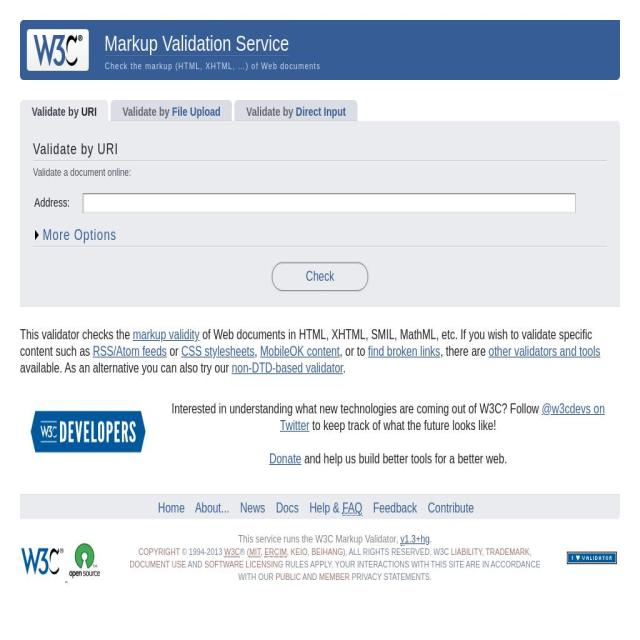button: (104, 32, 290, 56), (272, 262, 368, 292), (239, 99, 358, 121), (115, 99, 233, 121), (20, 32, 104, 56), (24, 99, 109, 121), (35, 226, 117, 245), (309, 501, 363, 516), (428, 501, 473, 516), (373, 501, 417, 516), (194, 501, 230, 516), (157, 501, 185, 516), (240, 501, 266, 516), (276, 501, 298, 516)
field: (82, 193, 576, 214)
heading: (104, 32, 290, 56), (20, 20, 89, 71)
image: (30, 411, 146, 453), (20, 541, 65, 581), (68, 540, 102, 581), (567, 552, 617, 565)
label: (32, 196, 72, 210)
link: (280, 402, 605, 433), (488, 344, 601, 359), (231, 361, 343, 376), (260, 344, 340, 359), (92, 344, 167, 359), (180, 344, 254, 359), (368, 344, 440, 359), (133, 328, 200, 342), (204, 559, 283, 570), (129, 559, 187, 570), (486, 546, 530, 558), (138, 546, 181, 558), (269, 452, 301, 466), (311, 546, 344, 558), (450, 546, 482, 558), (342, 501, 362, 517), (319, 572, 350, 582), (264, 547, 288, 558), (275, 572, 301, 582), (291, 546, 308, 558), (224, 547, 240, 558), (248, 547, 260, 558), (400, 532, 404, 546)
text: (32, 159, 608, 191), (20, 328, 592, 359), (104, 61, 620, 80), (238, 559, 541, 583), (172, 402, 542, 416), (20, 361, 232, 376), (309, 418, 497, 434), (302, 452, 508, 466), (32, 128, 118, 160), (238, 532, 400, 546), (20, 328, 133, 342), (342, 546, 450, 558), (349, 572, 432, 582), (293, 105, 346, 119), (440, 344, 489, 359), (170, 105, 222, 119), (31, 105, 79, 119), (122, 105, 170, 119), (246, 105, 294, 119), (180, 546, 224, 558), (309, 501, 343, 516), (339, 344, 369, 359), (404, 532, 430, 546), (78, 105, 97, 119), (166, 344, 182, 359), (186, 559, 204, 570), (301, 572, 320, 582), (240, 546, 250, 558), (254, 344, 260, 359), (342, 361, 346, 376), (307, 546, 312, 558), (260, 546, 264, 558), (287, 546, 291, 558), (482, 546, 486, 558), (529, 546, 532, 558), (430, 532, 432, 546)
